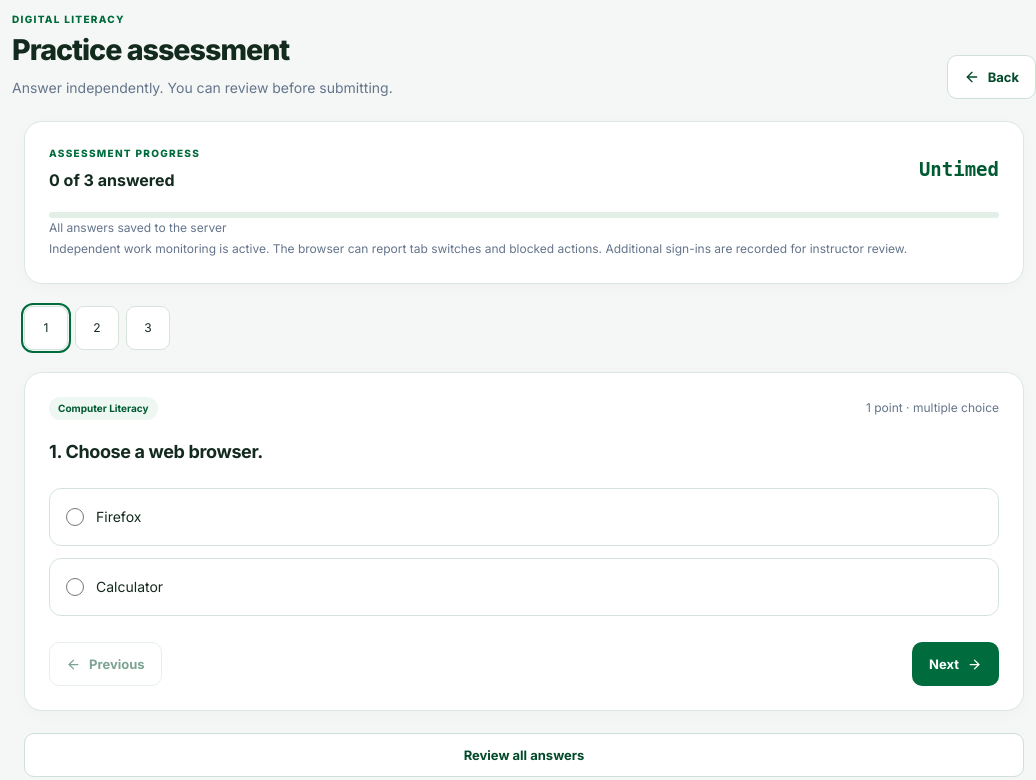
Test: student assessment answers › reconciles an interrupted save before uploading a newer answer
Click the radio button labelled "Firefox".
click(75, 517)  # box 66,508 -> 84,526
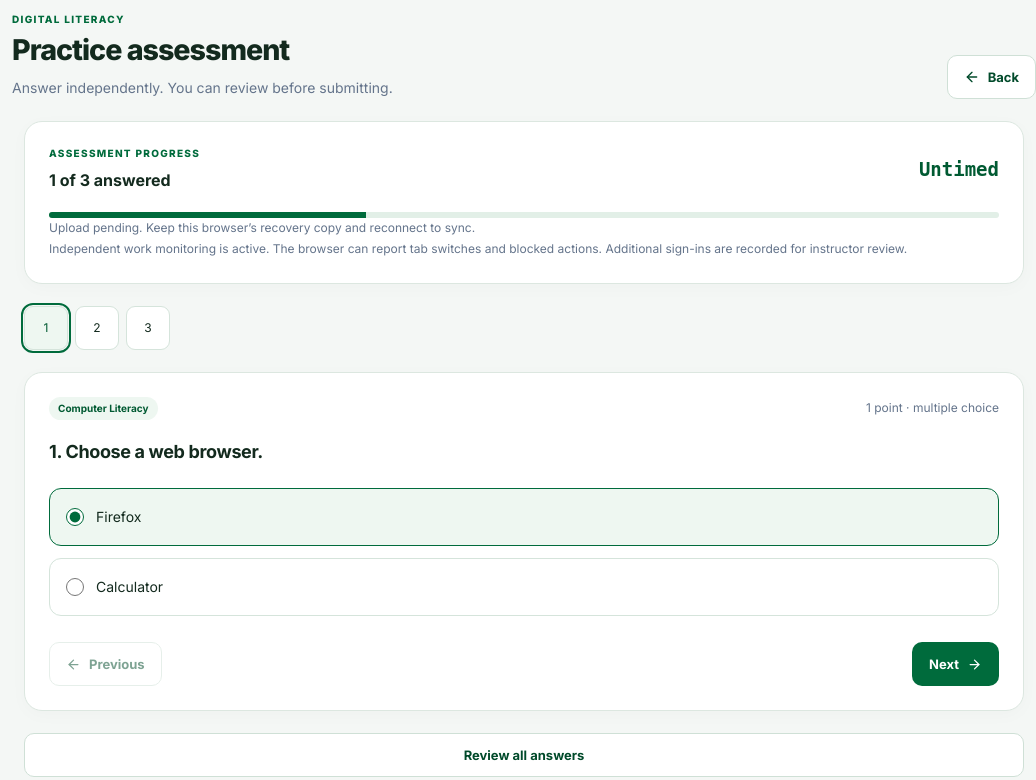
Expected: the text "Upload pending. Keep this browser’s recovery copy and reconnect to sync." is shown, 49,220 -> 475,235
Click the radio button labelled "Calculator".
click(75, 587)  # box 66,578 -> 84,596
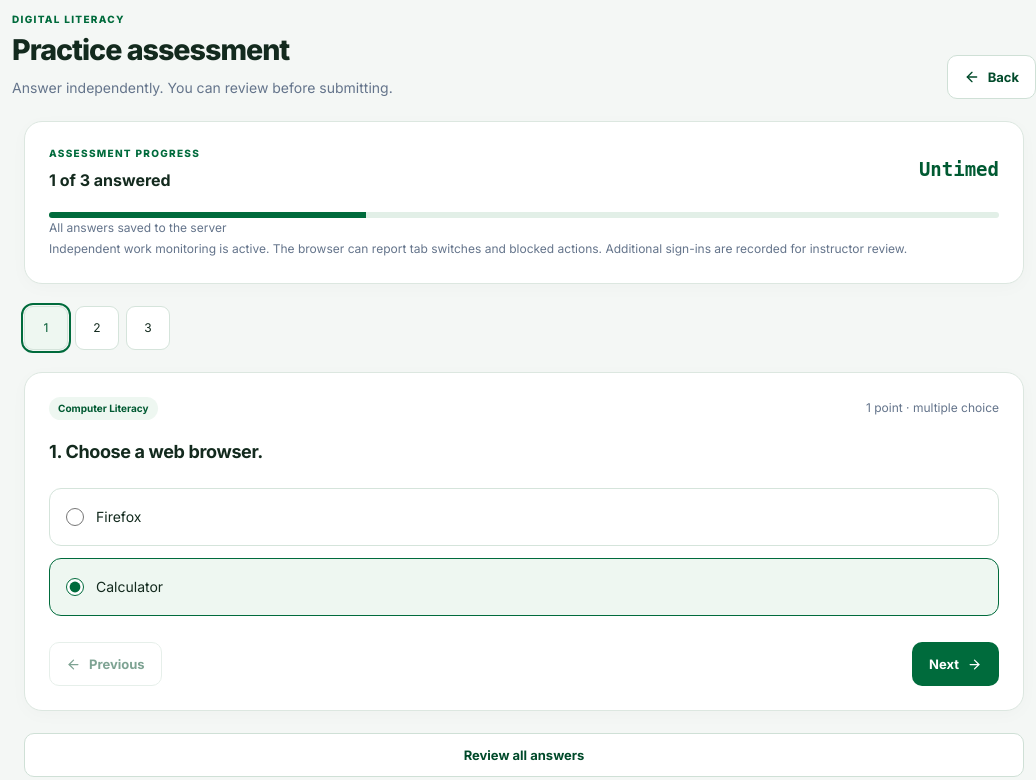
Expected: the radio button labelled "Calculator" is checked, 66,578 -> 84,596
Expected: the text "All answers saved to the server" is shown, 49,220 -> 226,235
